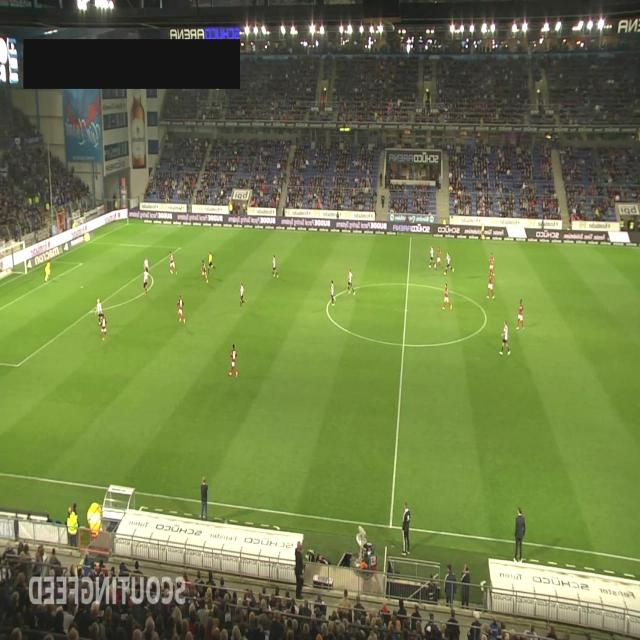ball: (170, 270, 173, 274)
goalkeeper: (45, 260, 52, 283)
player: (500, 320, 510, 356), (228, 343, 238, 378), (516, 299, 525, 331), (442, 282, 452, 310), (444, 252, 454, 276), (95, 297, 103, 325), (348, 268, 356, 295), (178, 294, 185, 324), (486, 278, 495, 300), (435, 246, 443, 270), (428, 244, 436, 268), (100, 314, 107, 341), (240, 282, 247, 308), (488, 252, 495, 278), (170, 251, 177, 275), (201, 260, 208, 284), (143, 268, 149, 296), (272, 255, 278, 278), (143, 257, 149, 279), (330, 280, 335, 304)
referee: (208, 250, 215, 272), (480, 222, 486, 241)
